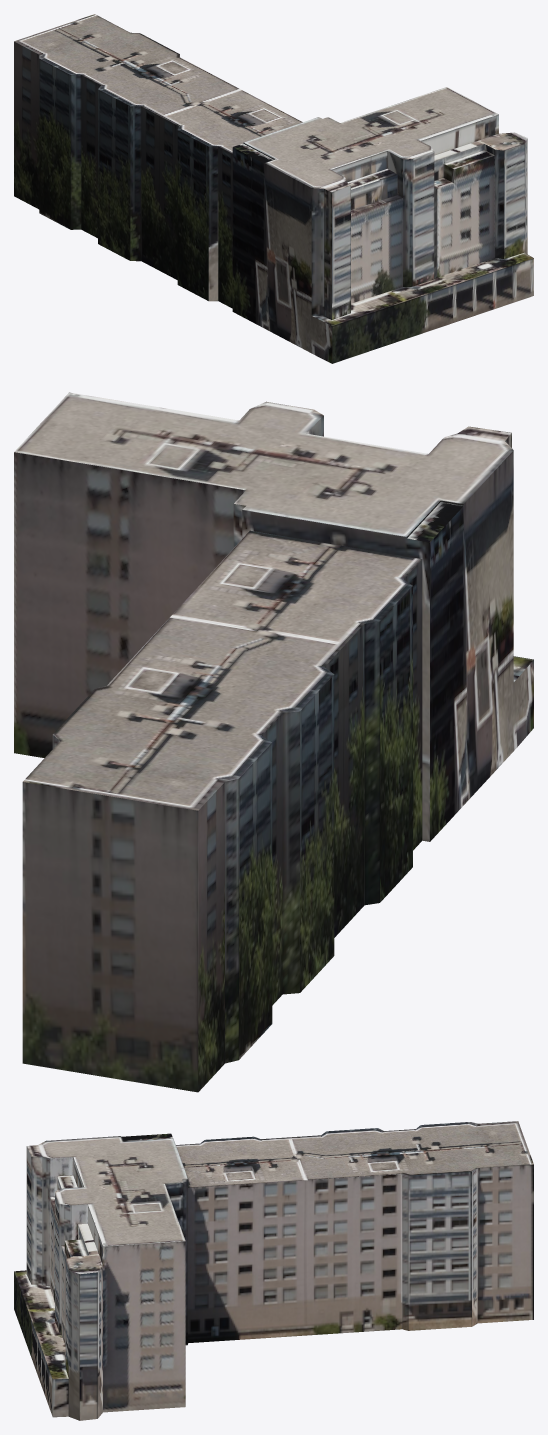
3 views of the same model, one above another, from view 1: azimuth 30°, elevation 25°; view 2: azimuth 150°, elevation 25°; view 3: azimuth 270°, elevation 25° (orthographic). The views are drawn at different scales.
Visible parts, largest first — view 1: Z_UP; view 2: Z_UP; view 3: Z_UP.
Part boxes in pixels (x1,y1,x2,y2): Z_UP: (14,14,533,363); Z_UP: (14,392,533,1092); Z_UP: (14,1121,533,1420).
Bounding box in the file's own units: 40.21 × 21.54 × 61.17.
2 materials, 1 textured.
